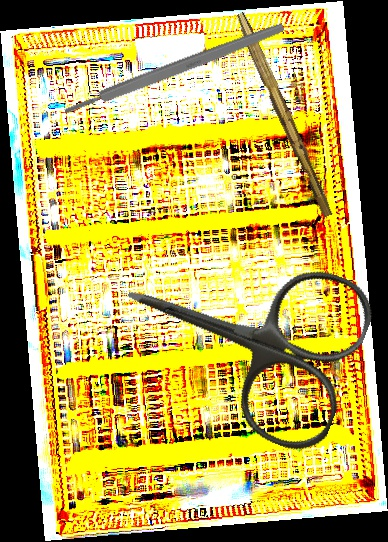Iris Scissors: (97, 208, 382, 460)
Scalpel Handle: (229, 11, 338, 219), (62, 20, 286, 118)
